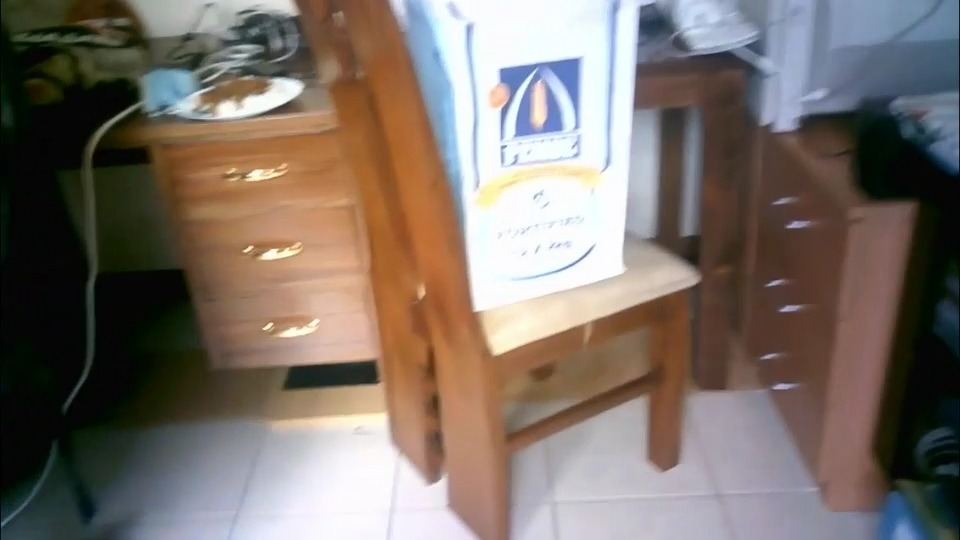wheat_flour_blue_label: (418, 2, 626, 308)
